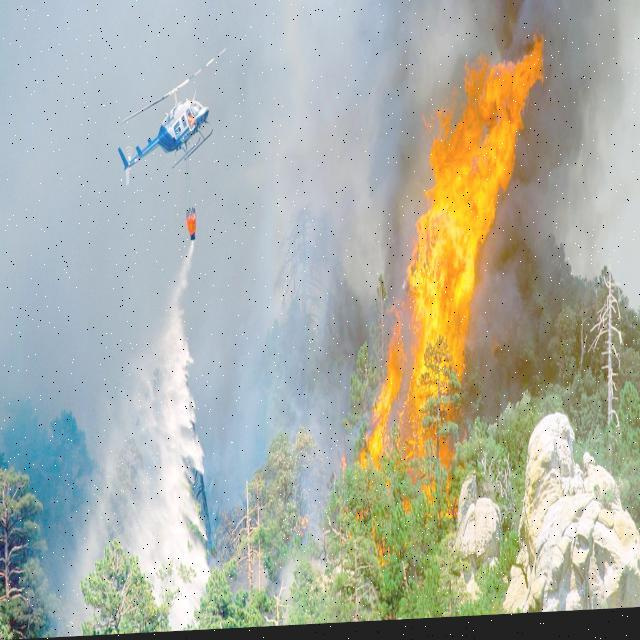Fire: (362, 36, 546, 510)
